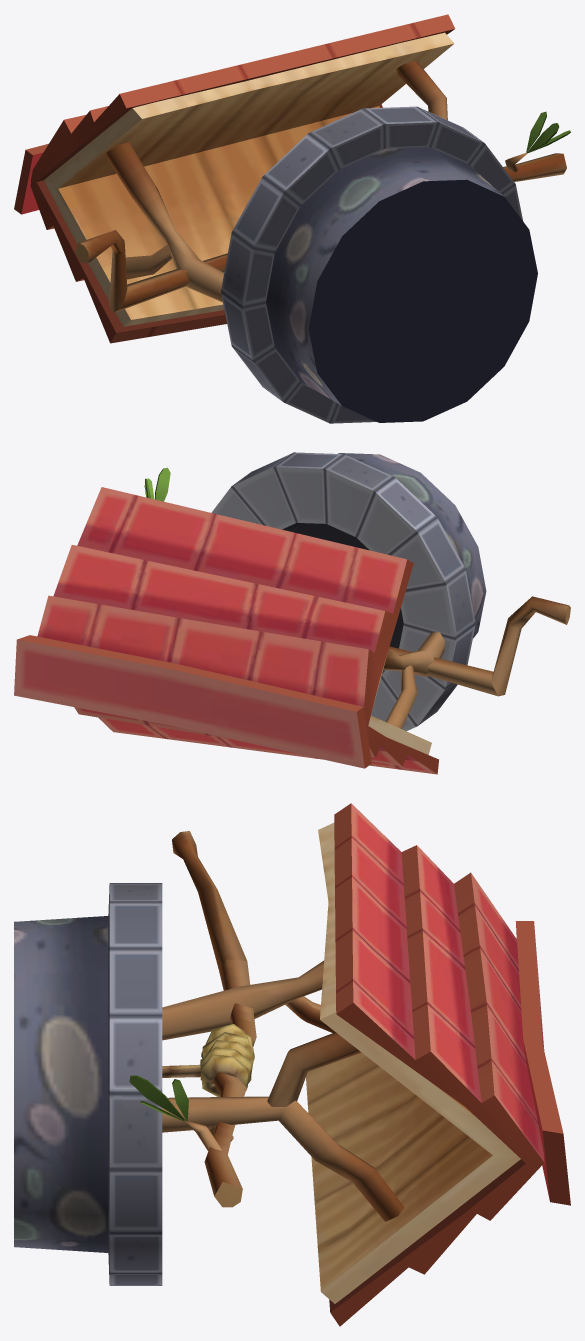
Rendered from WishingWell.fbx.
3 views of the same model, one above another, from view 1: azimuth 30°, elevation 25°; view 2: azimuth 150°, elevation 25°; view 3: azimuth 270°, elevation 25° (orthographic). The views are drawn at different scales.
Parts seen in each view (by area): view 1: WishingWell; view 2: WishingWell; view 3: WishingWell.
Boxes of the visible parts, x1,y1,x2,y2 form: WishingWell: (14, 14, 570, 423); WishingWell: (14, 452, 570, 774); WishingWell: (14, 803, 570, 1326).
Size of the model in its own units: 193 by 110 by 152.
